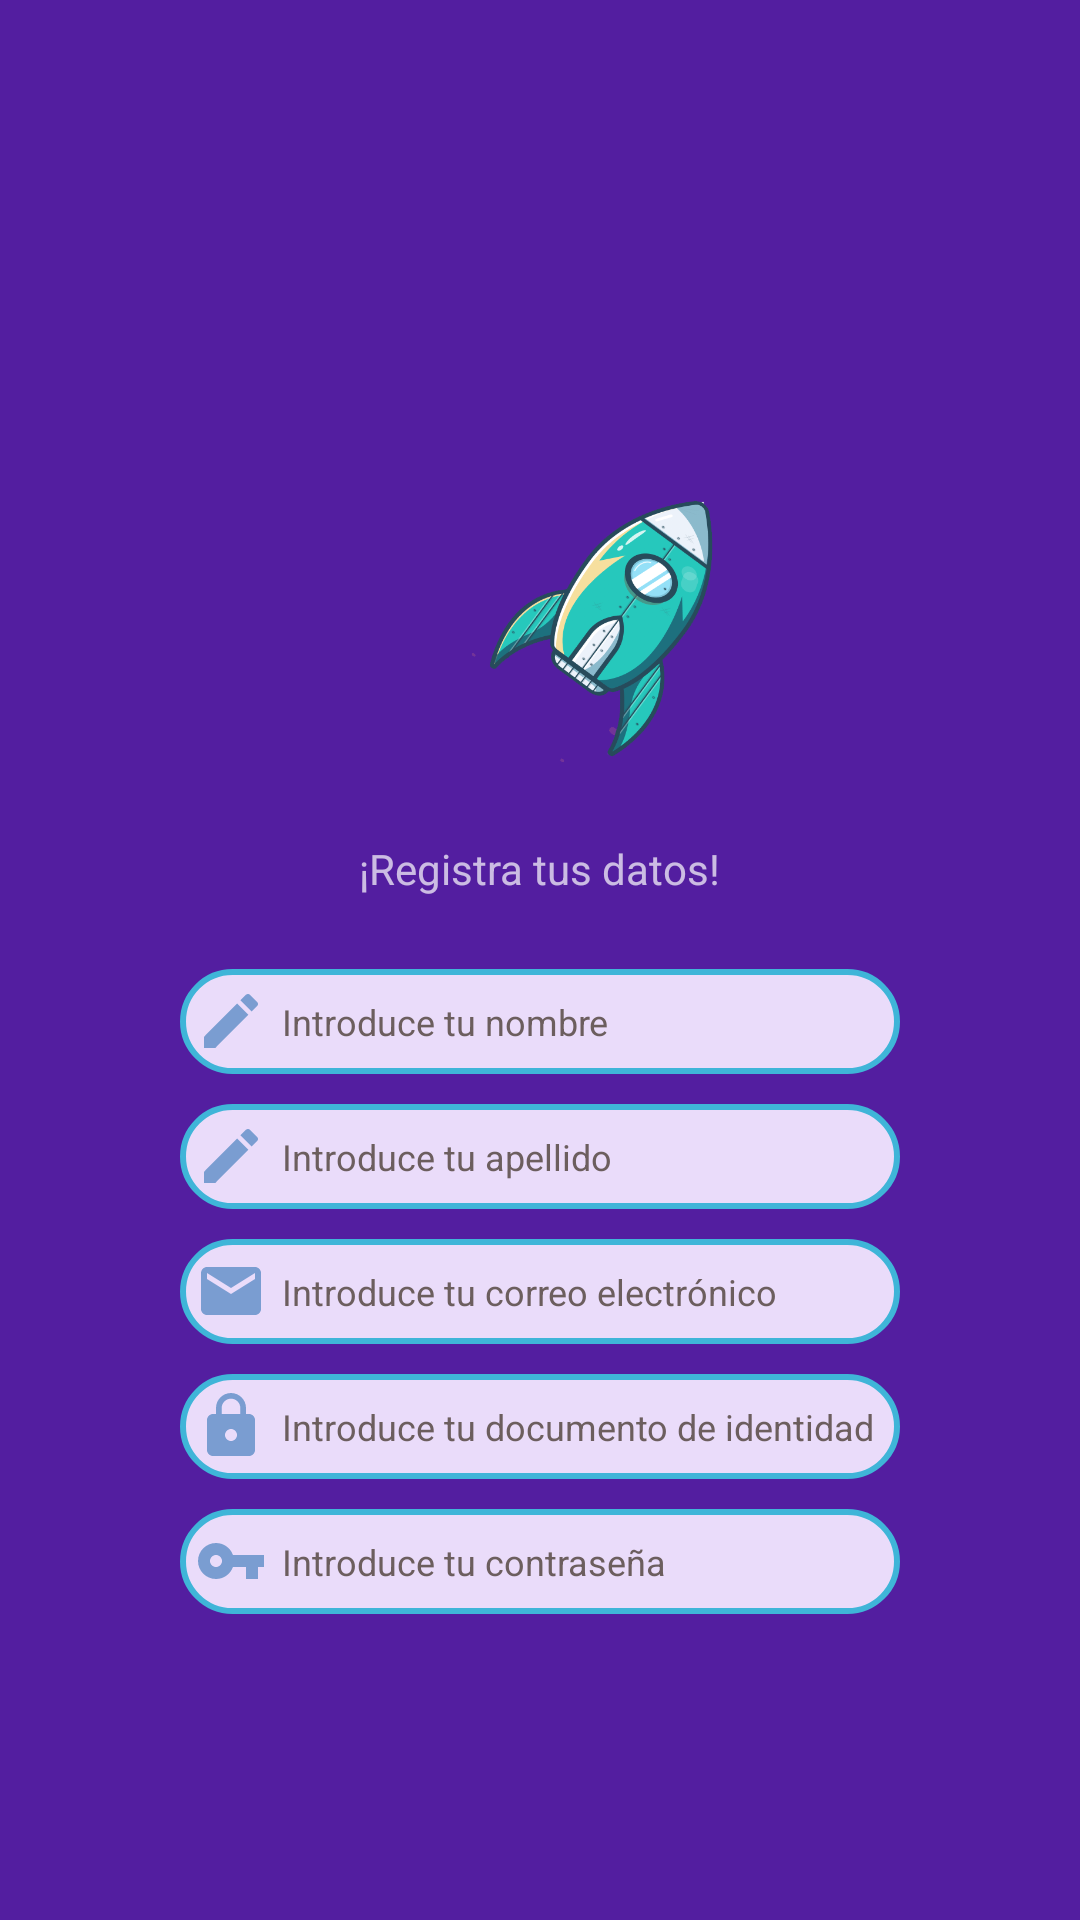

Named icons in this screenshot (1080x1920) and their bounding boxes, (x1, y1, x2, y2):
Imagen Cohete: (472, 501, 712, 762)
